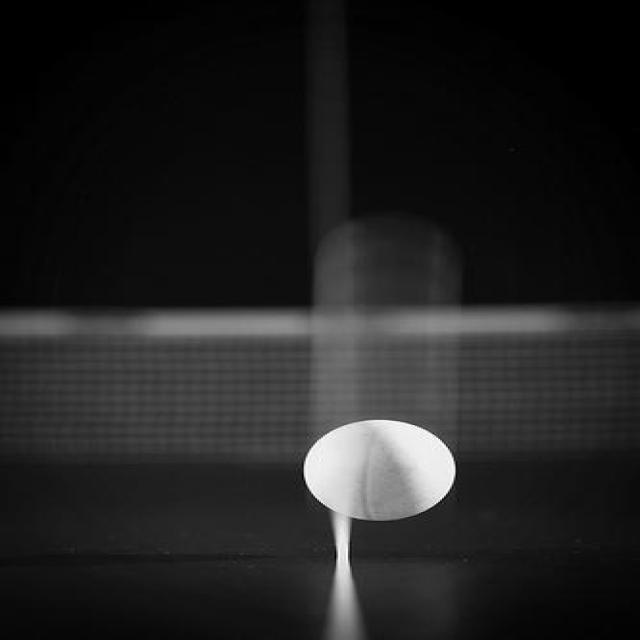ping-pong-ball: (303, 418, 458, 520)
